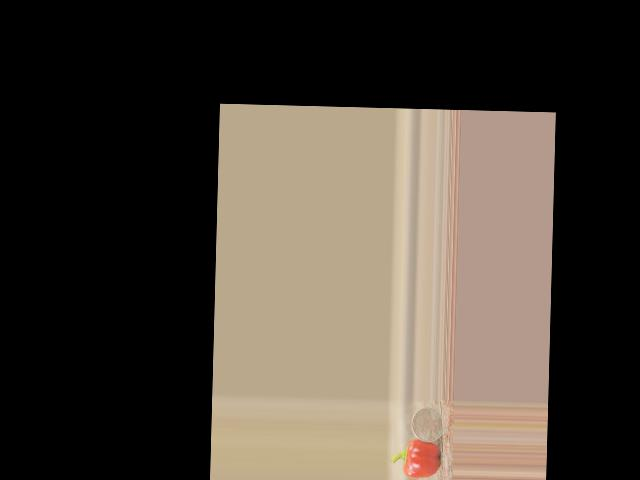bell_pepper: (391, 439, 442, 479)
